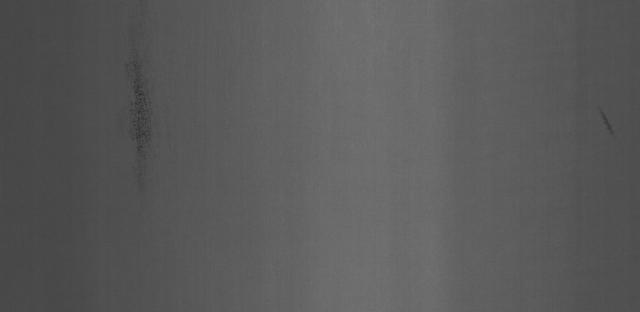inclusion: (100, 53, 174, 189)
